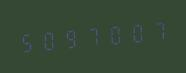five: (17, 26, 37, 57)
nine: (59, 22, 79, 54)
seven: (80, 21, 100, 52), (143, 15, 163, 46)
zero: (38, 24, 58, 55), (101, 19, 121, 50), (122, 17, 142, 48)
